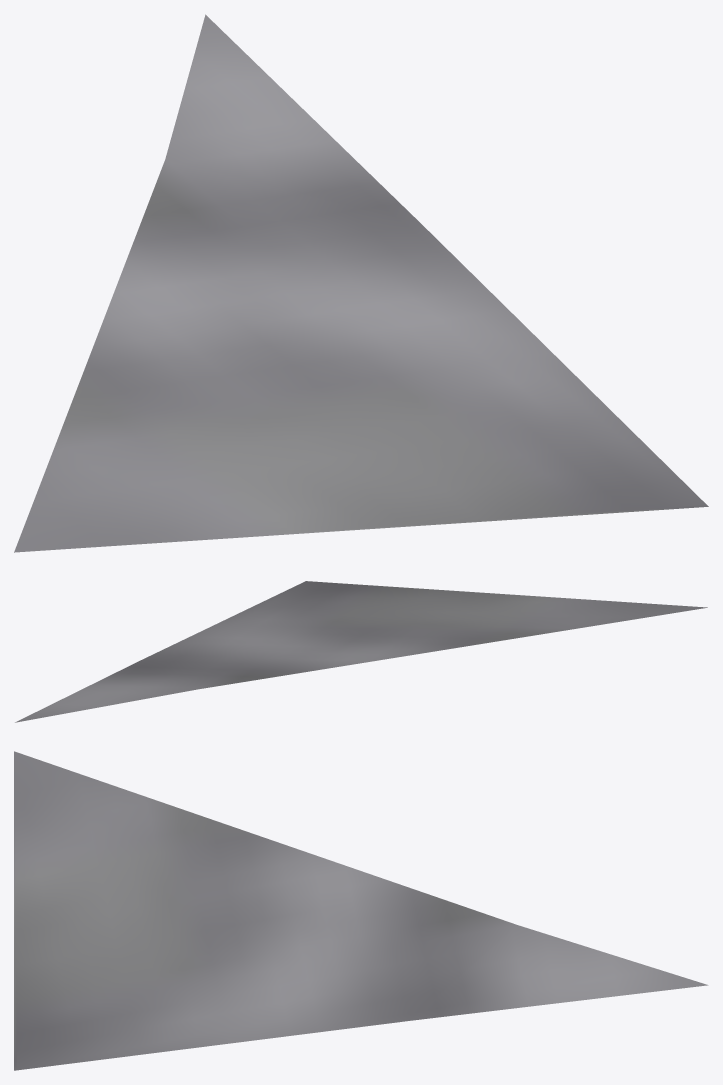
3 renders of one model, top to bottom at view 1: azimuth 30°, elevation 25°; view 2: azimuth 150°, elevation 25°; view 3: azimuth 270°, elevation 25°, orthographic. The views are drawn at different scales.
Size of the model in its own units: 0.1203 by 0.0205 by 0.1509.
1 material, 1 textured.
